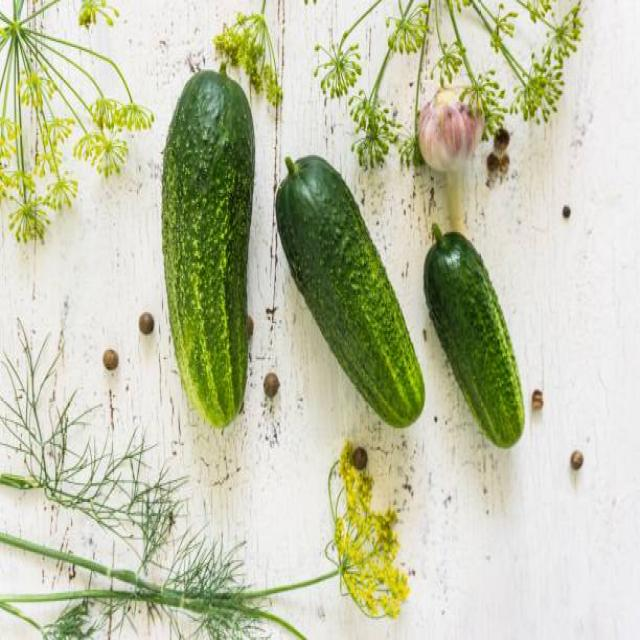cucumber: (276, 156, 426, 431), (158, 67, 255, 433), (420, 230, 527, 447)
